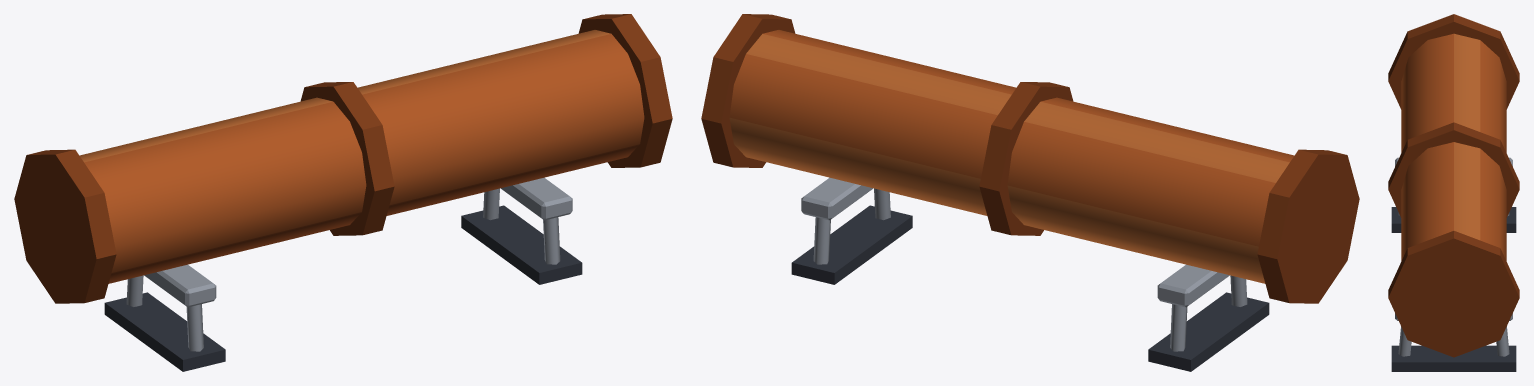
Rendered from pipe.glb.
3 renders of one model, left to right at view 1: azimuth 30°, elevation 25°; view 2: azimuth 150°, elevation 25°; view 3: azimuth 270°, elevation 25°, orthographic. The views are drawn at different scales.
Parts seen in each view (by area): view 1: Body; view 2: Body; view 3: Body.
Part boxes in pixels (x1,y1,x2,y2): Body: [14, 14, 672, 371]; Body: [701, 14, 1359, 371]; Body: [1388, 14, 1519, 371].
Size of the model in its own units: 4.04 by 1.42 by 1.
